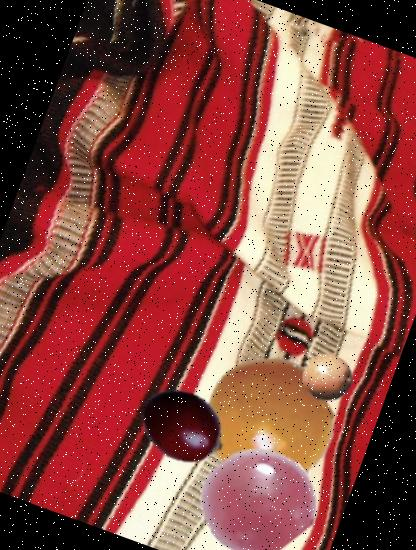Granadilla: (280, 334, 362, 415)
Physalis: (183, 336, 352, 506)
Redcurrant: (185, 429, 329, 550)
Tamarillo: (126, 369, 240, 483)
